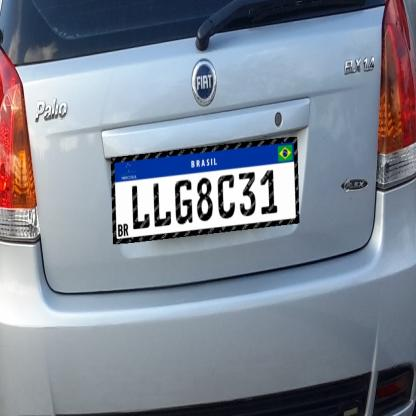PlacaM: (111, 137, 299, 244)
